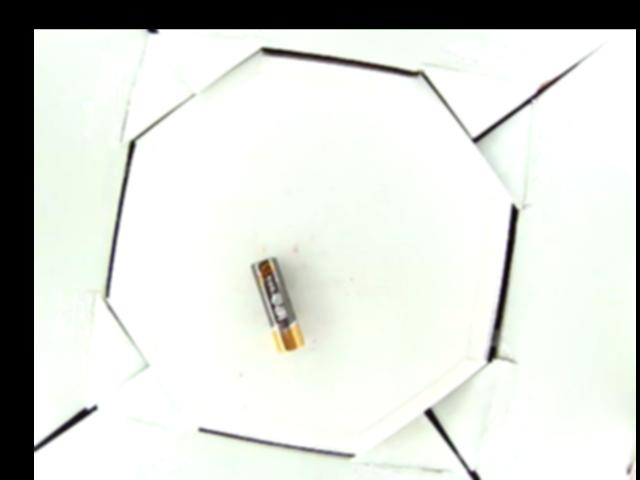Battery: (248, 256, 307, 350)
